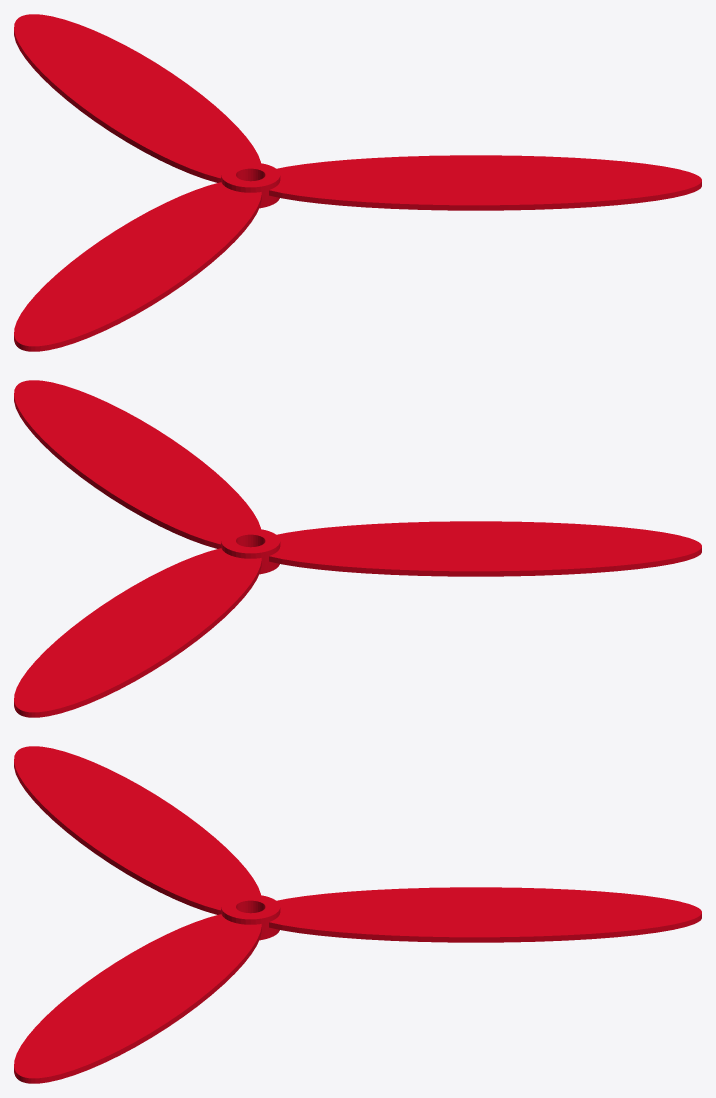
The model's file is 6_inch_propeller.dae.
3 views of the same model, one above another, from view 1: azimuth 30°, elevation 25°; view 2: azimuth 150°, elevation 25°; view 3: azimuth 270°, elevation 25° (orthographic).
Visible parts, largest first — view 1: __inchi_propeller; view 2: __inchi_propeller; view 3: __inchi_propeller.
Boxes of the visible parts, box(x1,y1,x2,y2) form: __inchi_propeller: box(14, 14, 701, 351); __inchi_propeller: box(14, 380, 701, 717); __inchi_propeller: box(14, 746, 701, 1083).
Size of the model in its own units: 0.1327 by 0.1162 by 0.004.
